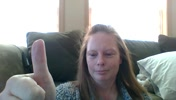hand: (0, 38, 60, 99)
